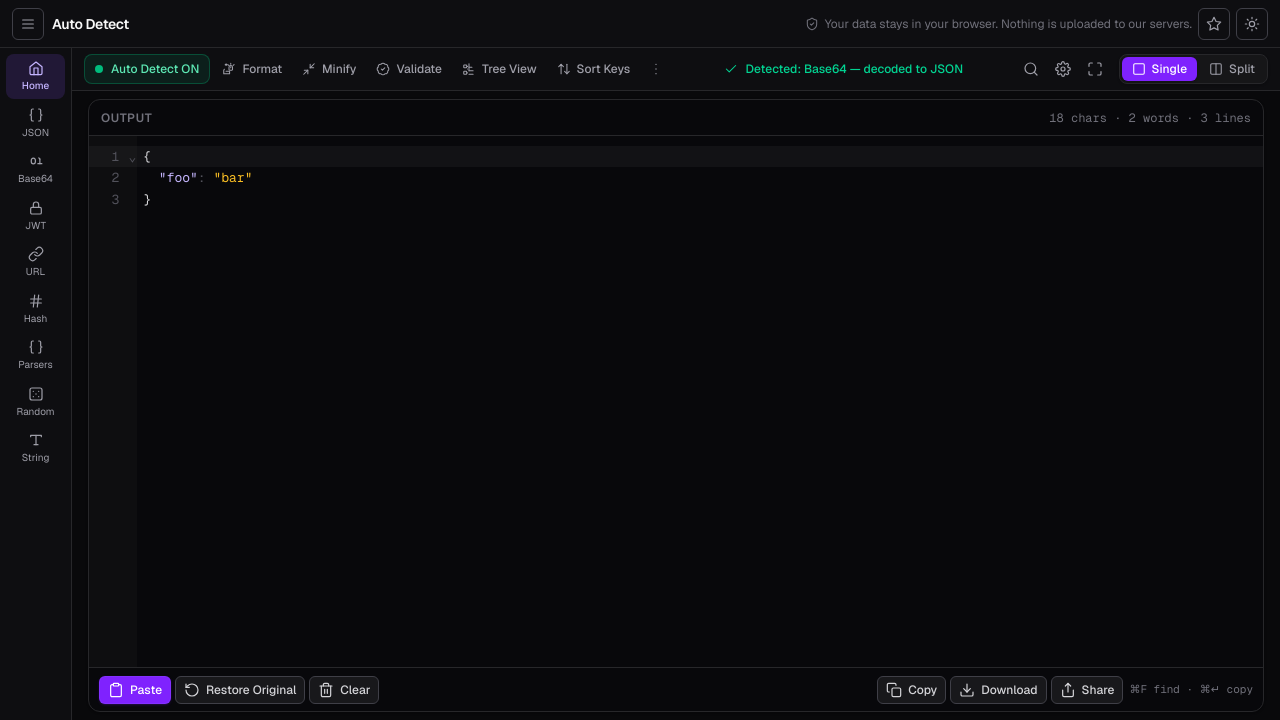
Workspace — single view (default) › Restore Original returns the editor to the raw pasted text
This screenshot has width=1280, height=720.
Click the button "Restore Original": (240, 690) top-left (175, 676), bottom-right (305, 704)
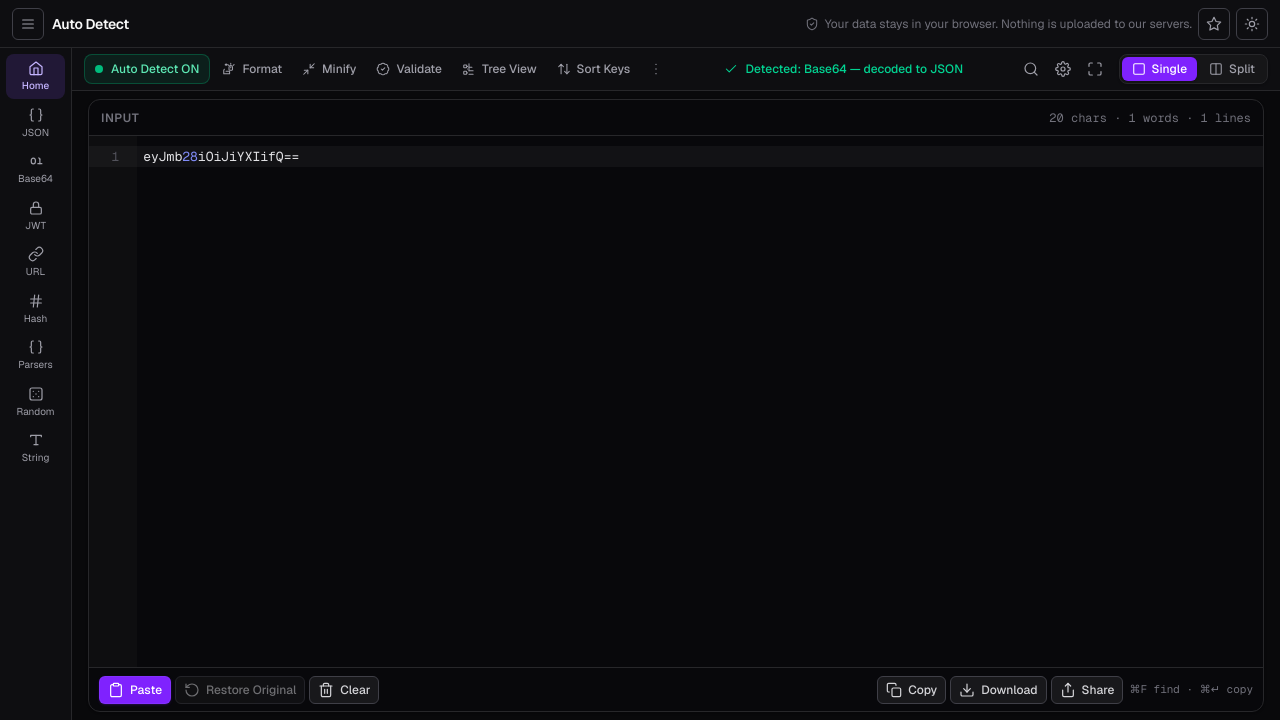
Now the text box labelled "eyJmb28iOiJiYXIifQ==" is shown, box top-left (137, 146), bottom-right (1263, 167)
Now the button "Restore Original" is disabled, box top-left (175, 676), bottom-right (305, 704)
